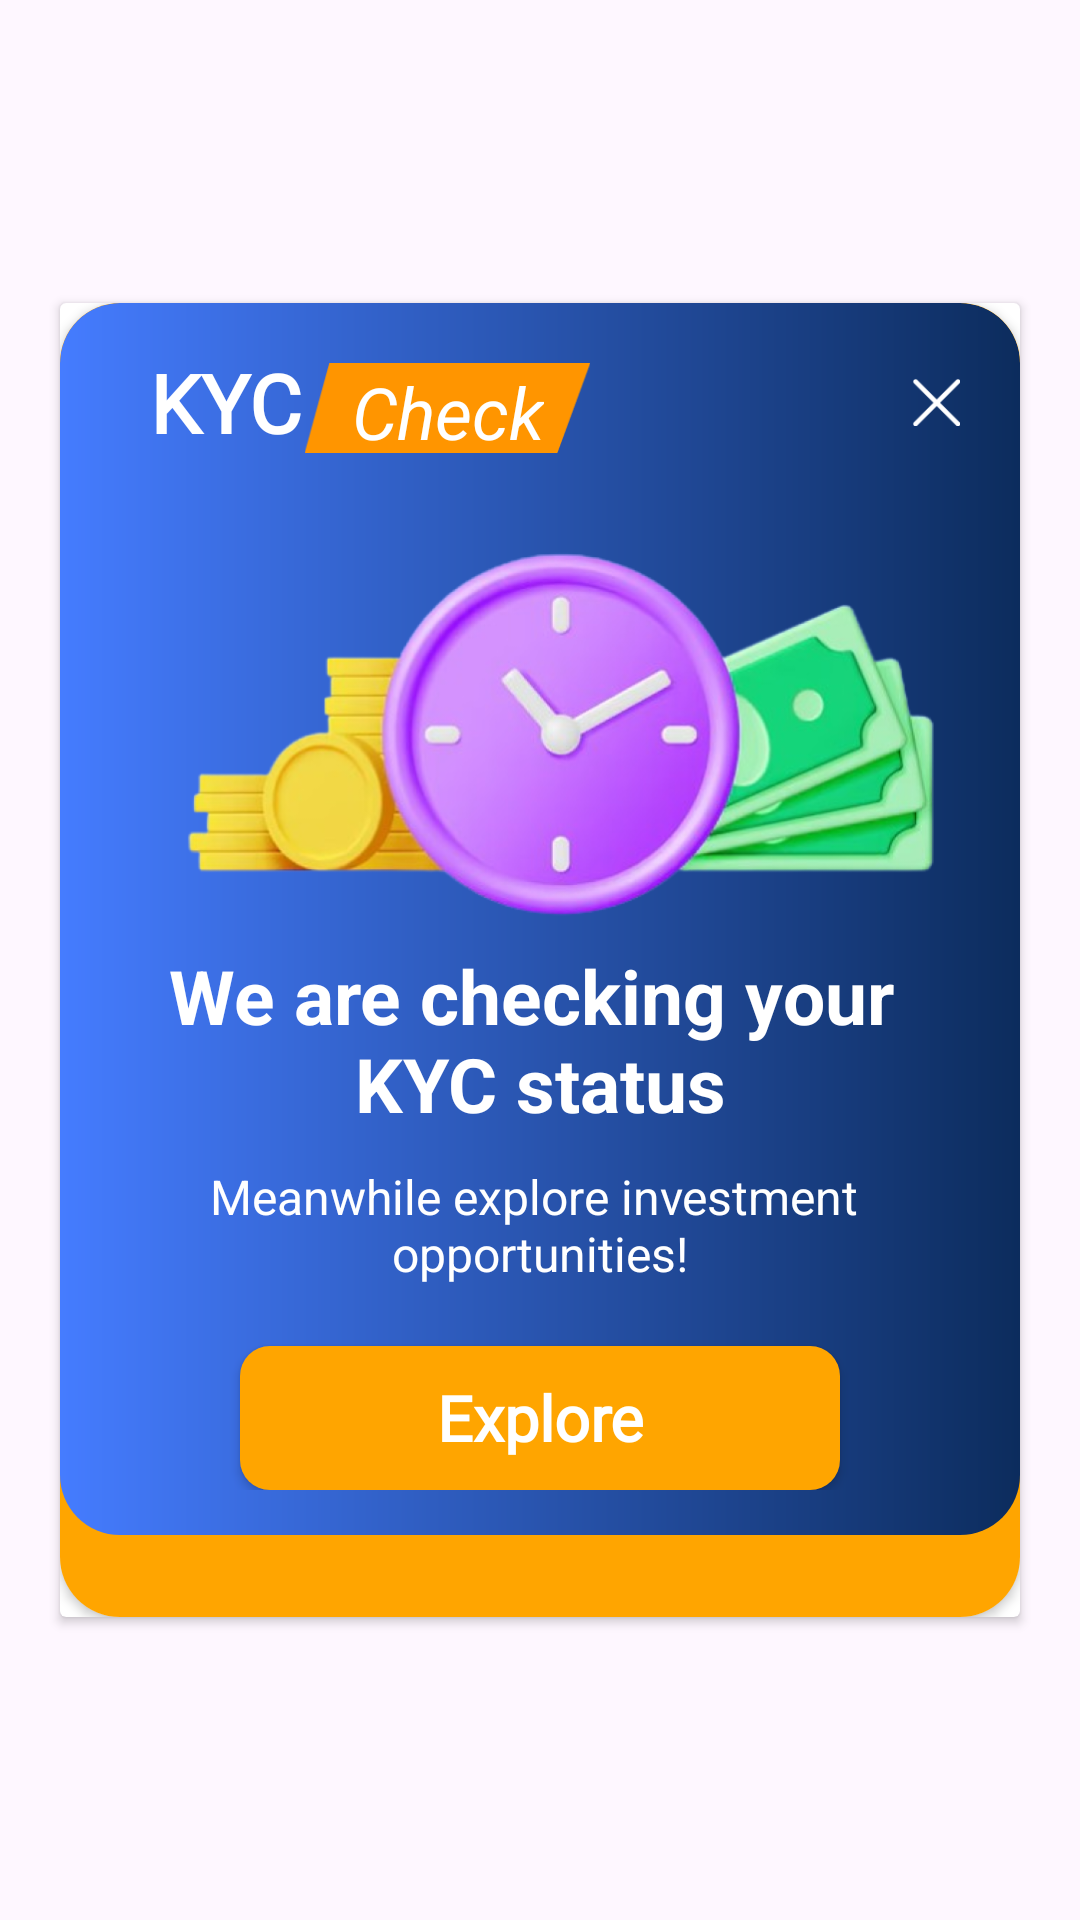

Named icons in this screenshot (1080x1920) and their centers, (x=x, y=y):
cross: (x=936, y=402)
